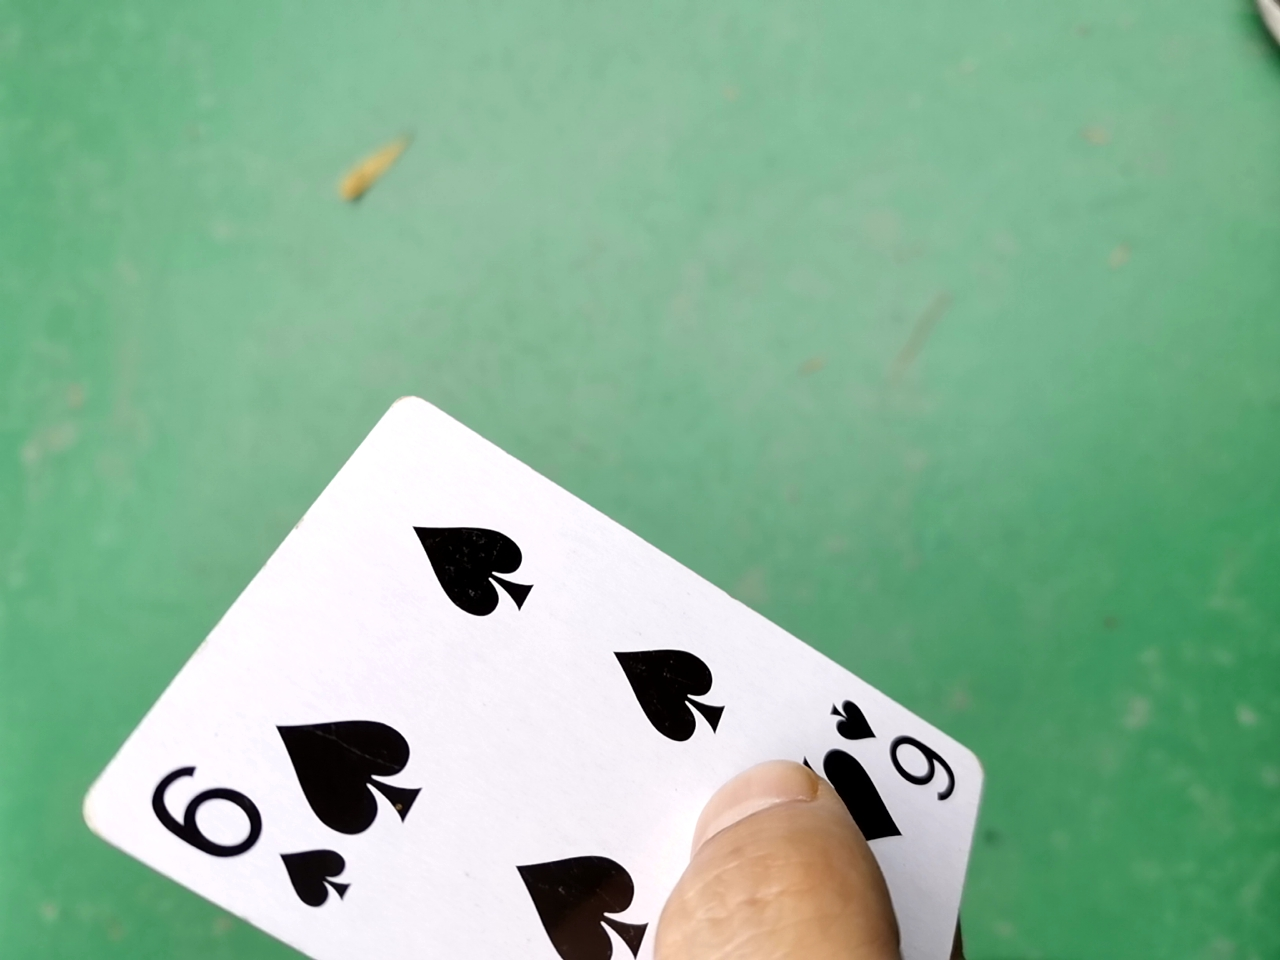ht 6: (65, 392, 999, 955)
